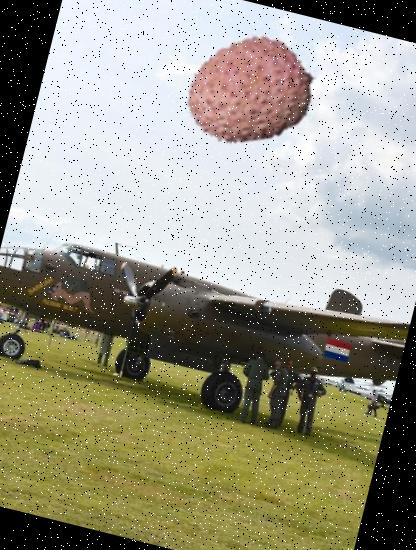Lychee: (171, 8, 332, 170)
